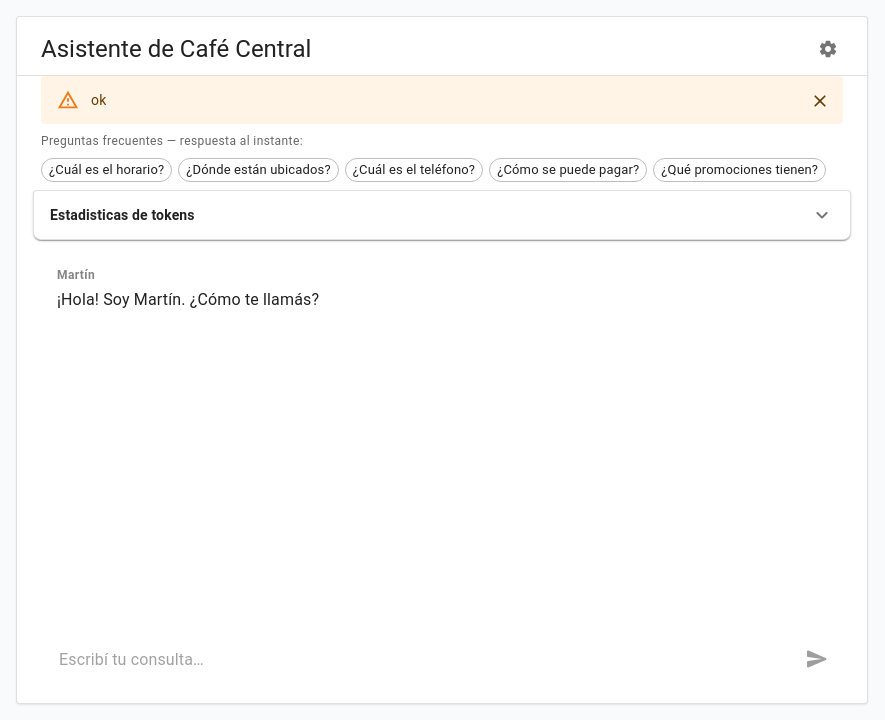
Test case: App › envía una pregunta y muestra la respuesta del modelo
Step 1. Type "Cual es el horario?" into the text box named "pregunta del cliente" → (412,659), box [59, 648, 765, 670]
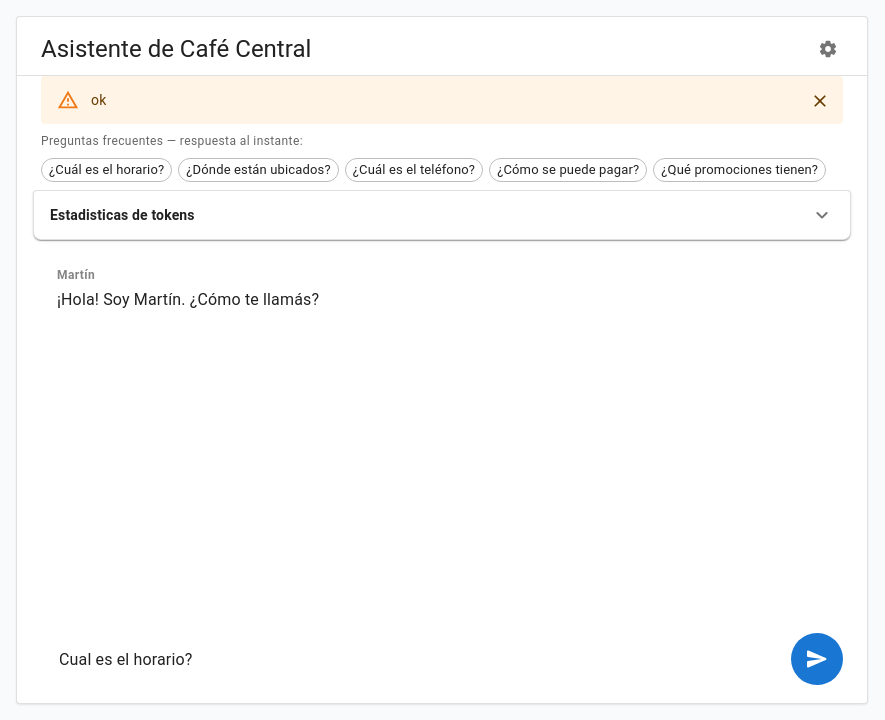
Step 2. Click the button named "enviar" → (817,659), box [791, 633, 843, 685]
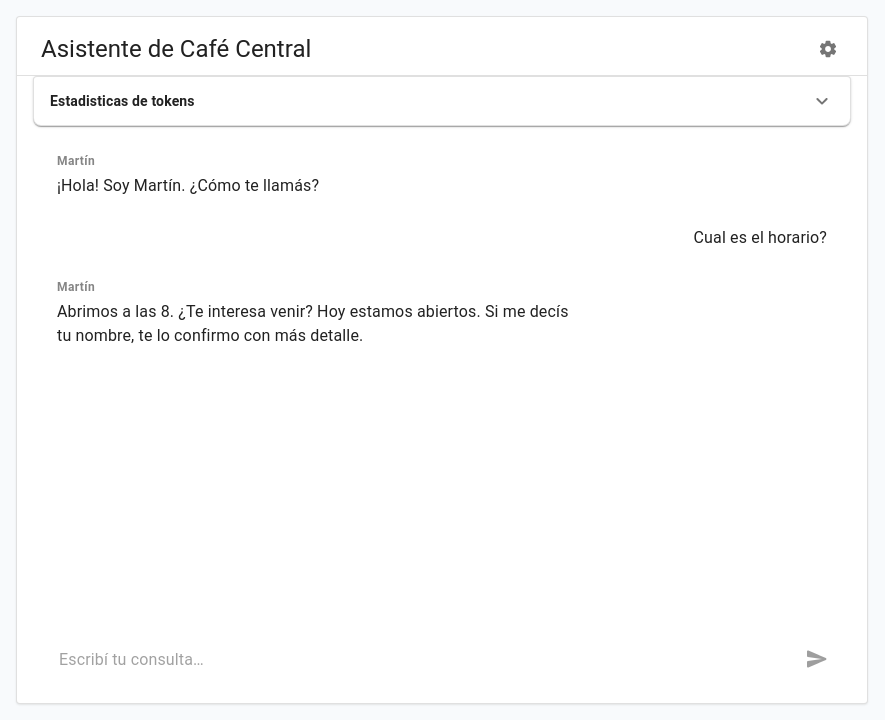
Result: the text "Abrimos a las 8" is shown at [57, 302, 573, 345]
